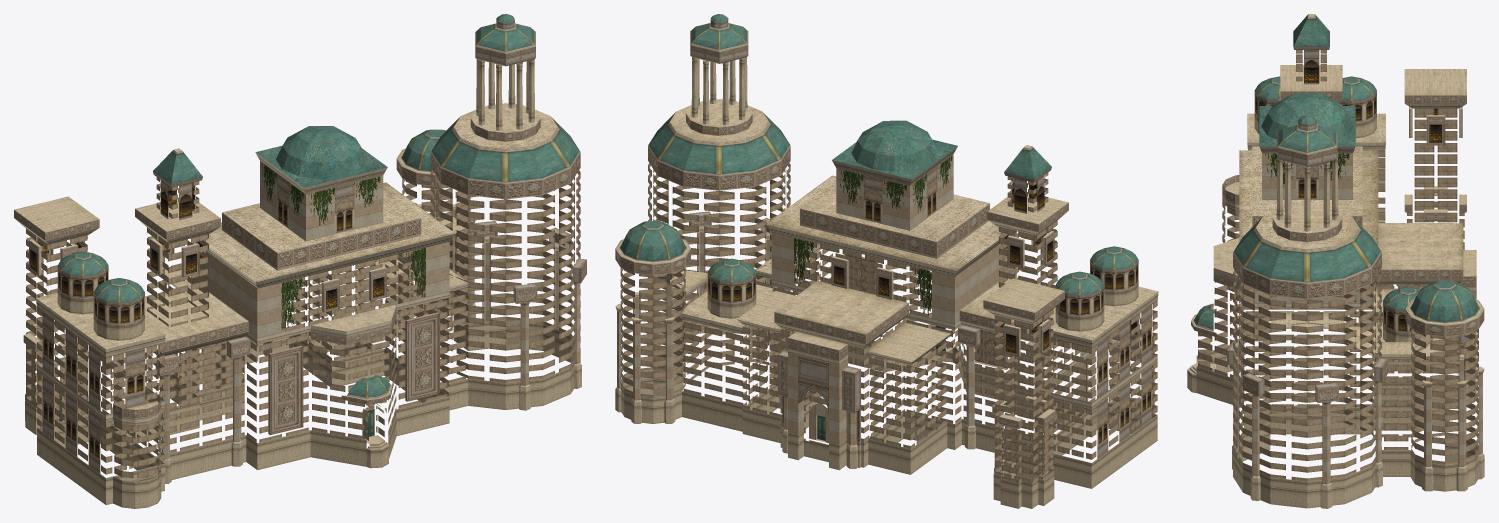
File: thm_nboo_block_bldg_64x32_s02_l1.fbx
3 views of the same model, side by side, from view 1: azimuth 30°, elevation 25°; view 2: azimuth 150°, elevation 25°; view 3: azimuth 270°, elevation 25° (orthographic). The views are drawn at different scales.
Visible parts, largest first — view 1: mesh_node; view 2: mesh_node; view 3: mesh_node.
Part boxes in pixels (x1,y1,x2,y2): mesh_node: (14, 14, 586, 508); mesh_node: (615, 14, 1158, 508); mesh_node: (1187, 14, 1484, 508).
Size of the model in its own units: 62.53 by 43.41 by 32.38.
